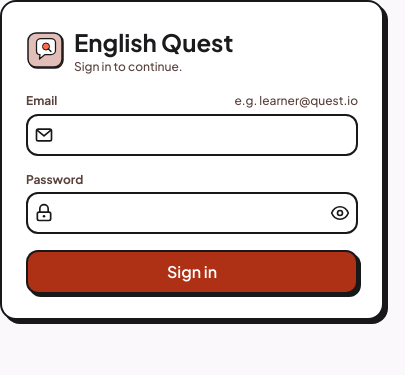
Test: LoginForm › rejects_invalid_email_before_calling_the_api
The width and height of the screenshot is (405, 375).
Type "not-an-email" into the field labelled "Email".
click(192, 135); type("not-an-email")  # box [26,114,358,156]
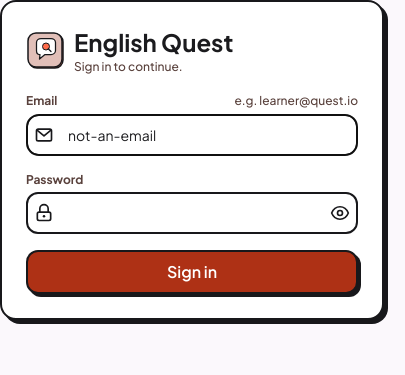
Type "a good password" into the password field labelled "Password".
click(192, 213); type("a good password")  # box [26,192,358,234]
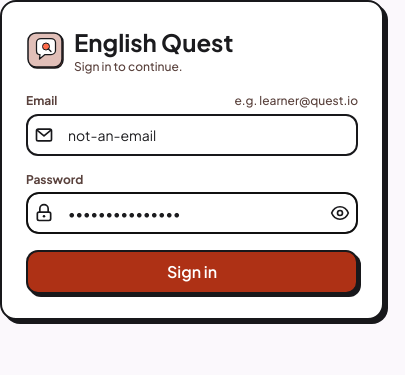
Click the button "Sign in".
click(192, 272)  # box [26,250,358,294]
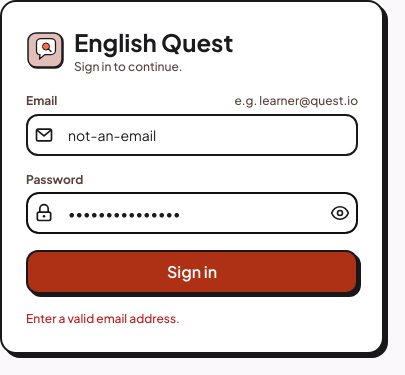
Check: the message "Enter a valid email address." is shown, box [26,311,180,326]
